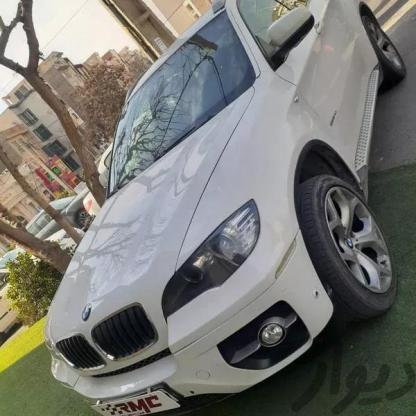Car: (61, 6, 416, 408), (0, 180, 103, 253)
